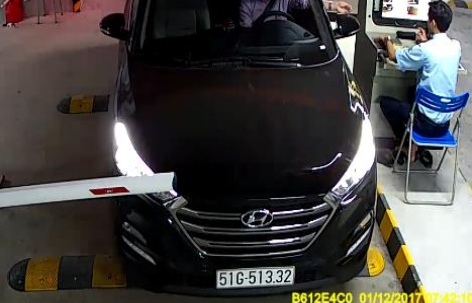plate: (211, 262, 294, 289)
